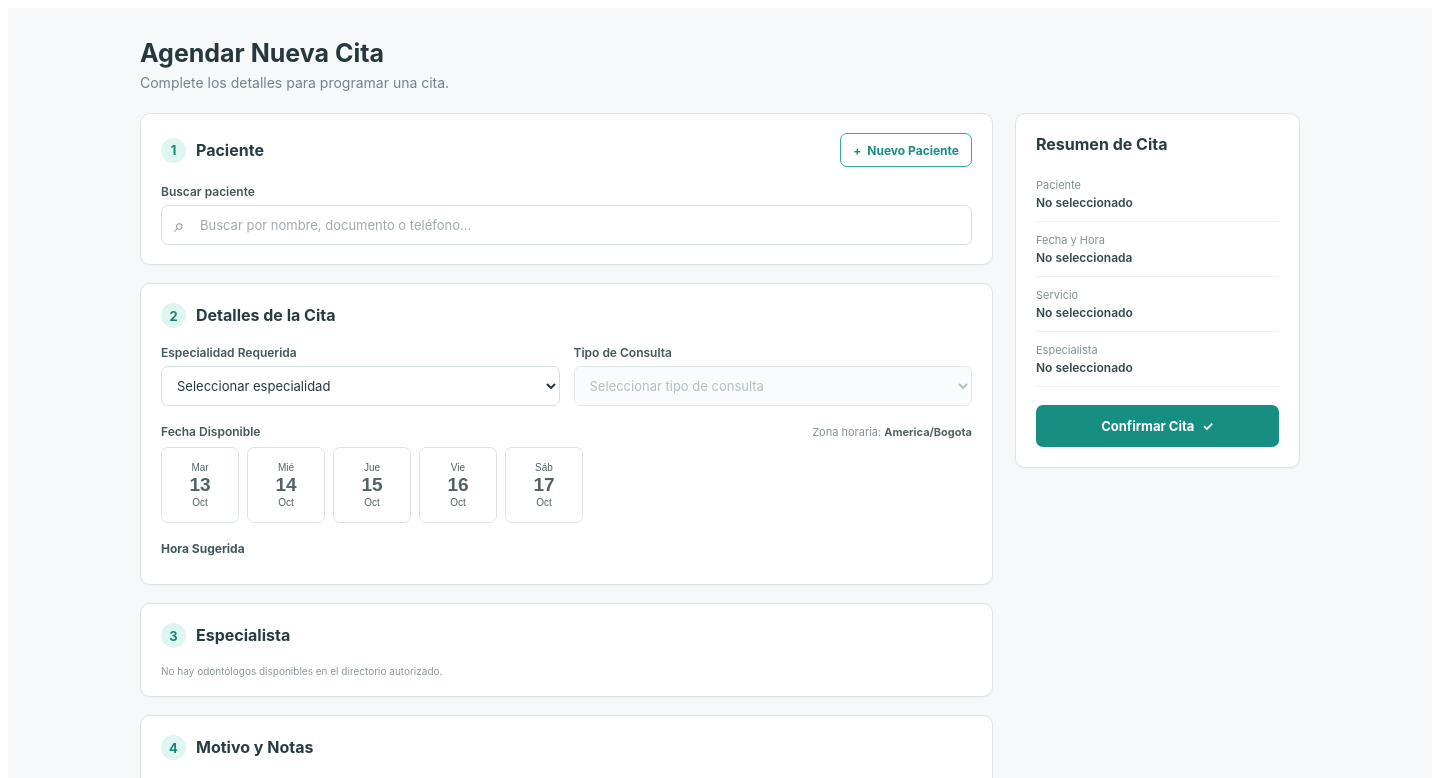
Test: SchedulingPageComponent › renders selectable demonstration dentists after selecting a specialty
The image size is (1440, 778).
Select "Odontología general" in the dropdown with id "specialty": (360, 386) x1=161 y1=366 x2=560 y2=406
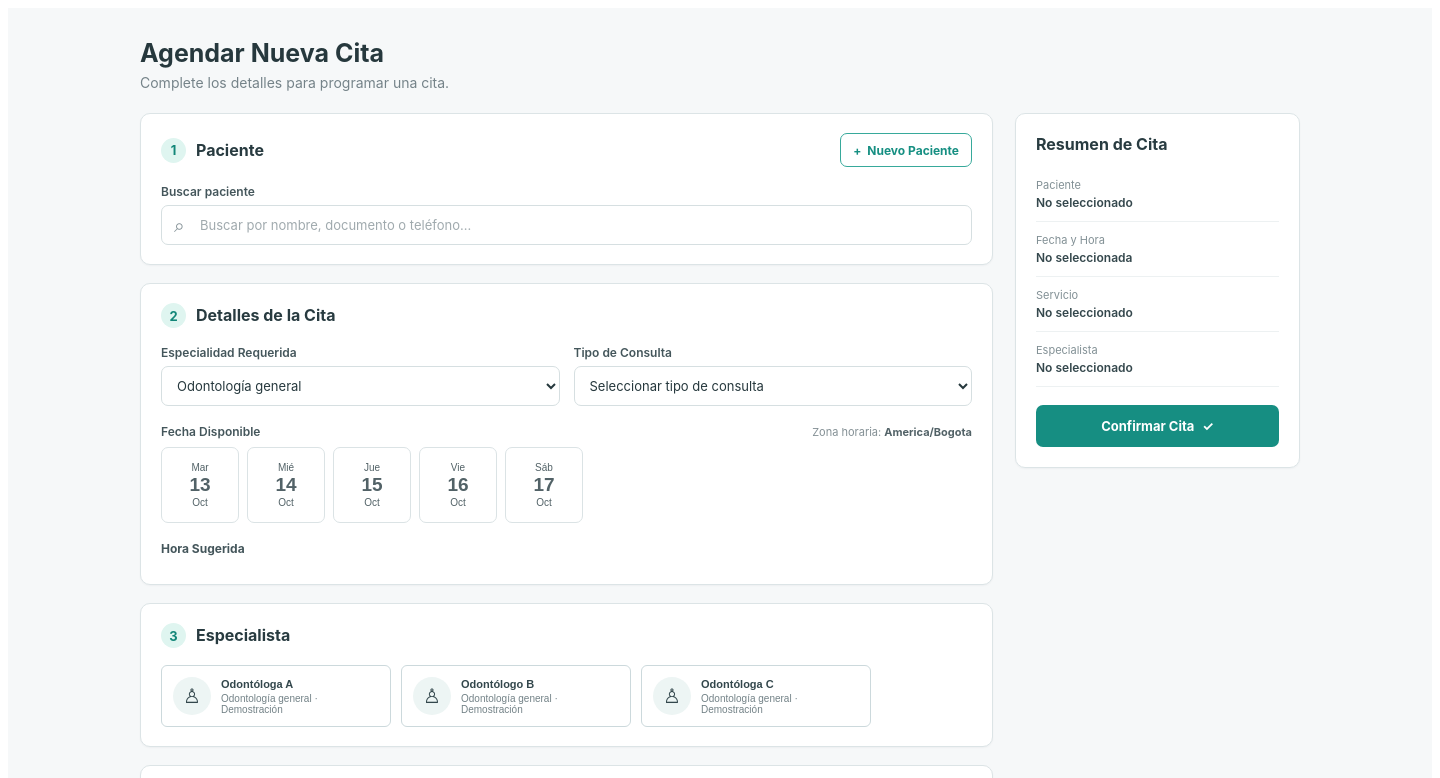
Now the button "♙ Odontóloga A Odontología general · Demostración" is shown, box x1=161 y1=665 x2=391 y2=727
